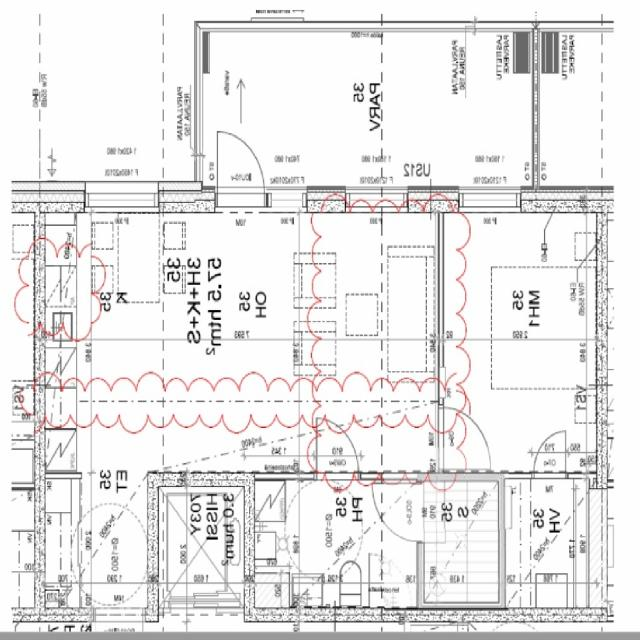door: (218, 132, 265, 207), (439, 408, 490, 469), (372, 483, 422, 541), (317, 419, 358, 479), (535, 433, 566, 478)
